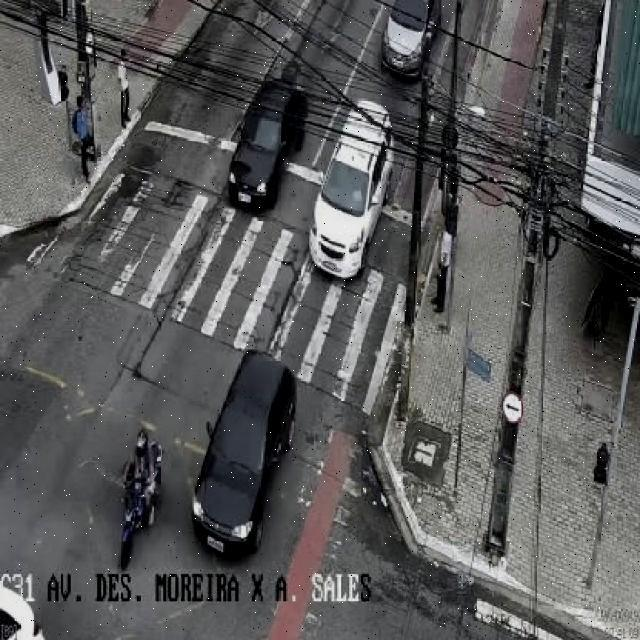Car: (191, 348, 298, 559), (309, 101, 394, 279), (226, 79, 308, 214), (379, 1, 436, 80)
Cycle: (116, 468, 163, 570)
